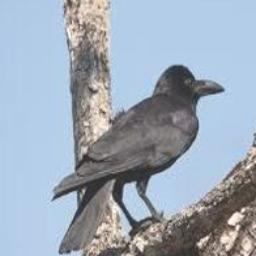Crow: (52, 64, 227, 256)
